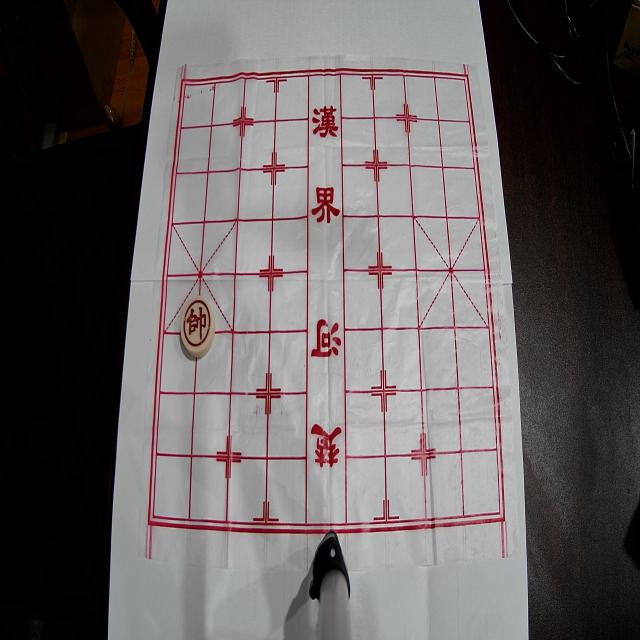red-general: (180, 296, 216, 358)
